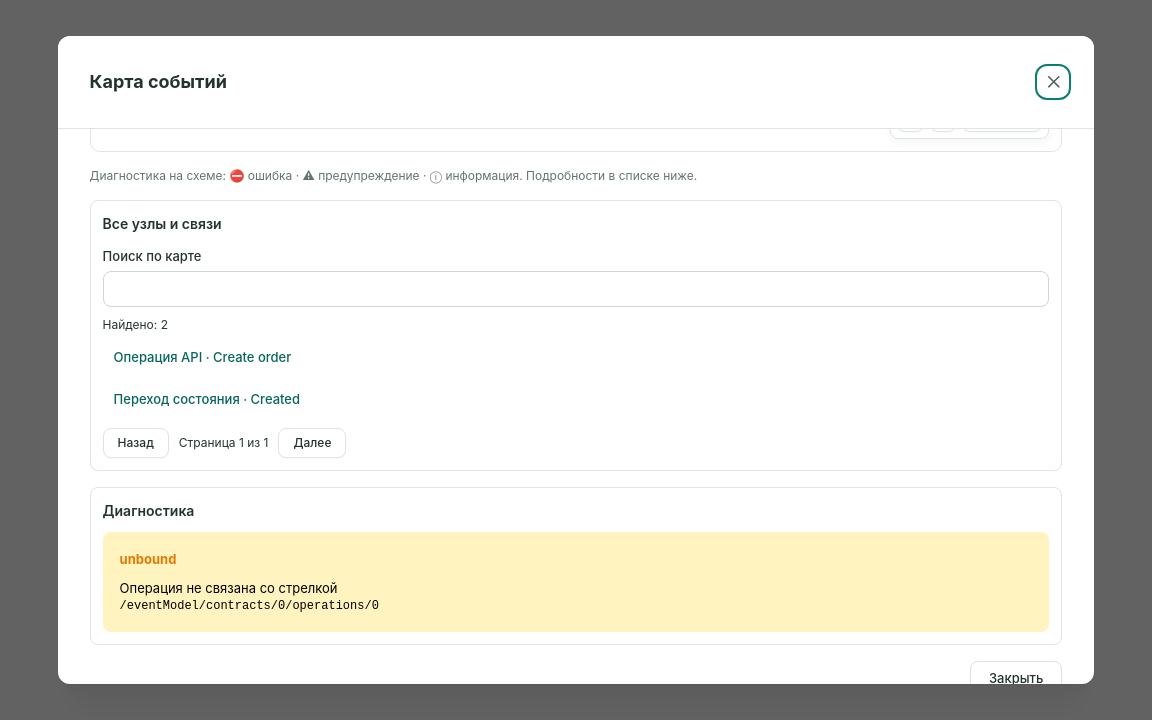
Test: shows linked HTTP and lifecycle targets from the embedded contract snapshot
(page scrolled)
Click the button "Операция API · Create order".
click(202, 357)  # box [103,344,1049,376]
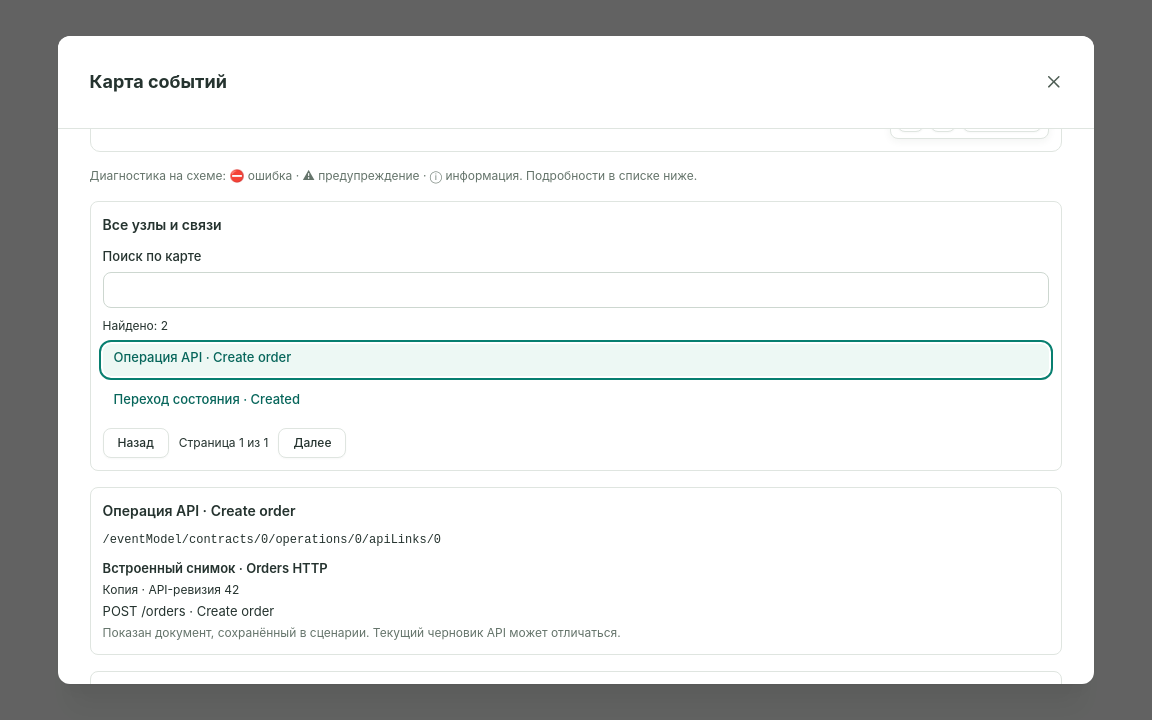
expect the text "POST /orders · Create order" is shown: met, box [103,604,274,620]
expect the text "Копия · API-ревизия 42" is shown: met, box [103,582,239,597]
Click the button "Переход состояния · Created".
click(207, 399)  # box [103,386,1049,418]
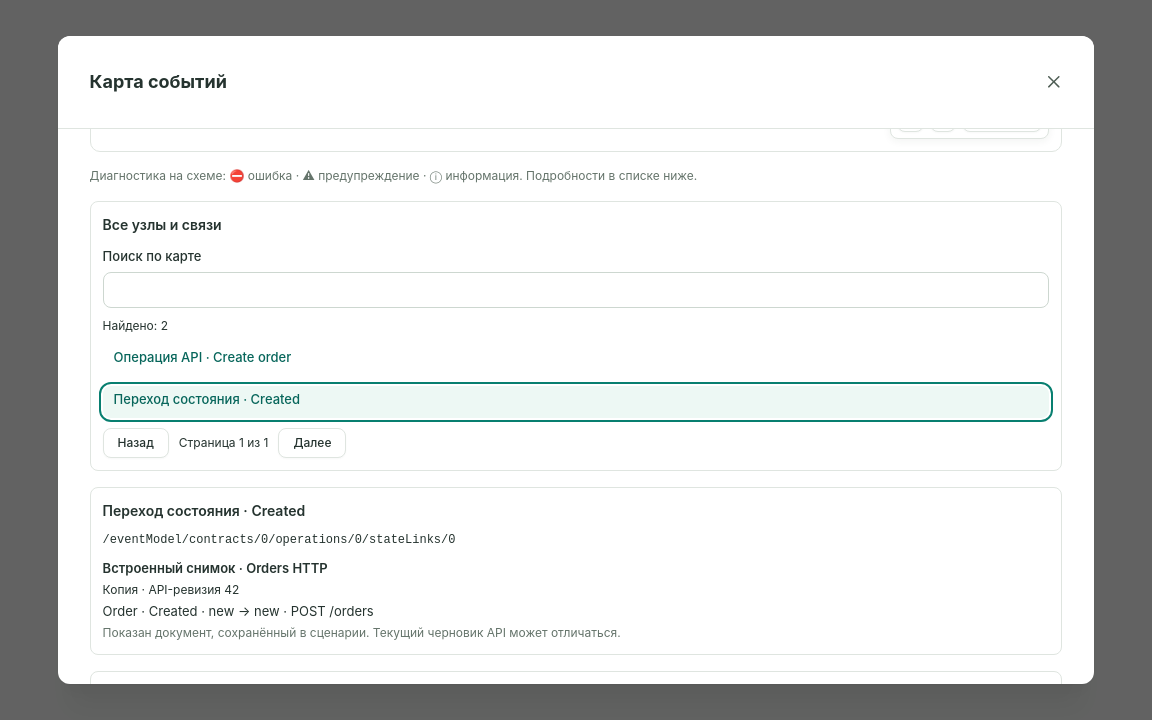
expect the text "Текущий черновик API может отличаться" is shown: met, box [103,625,621,640]
expect the text "Order · Created · new → new · POST /orders" is shown: met, box [103,604,374,620]
